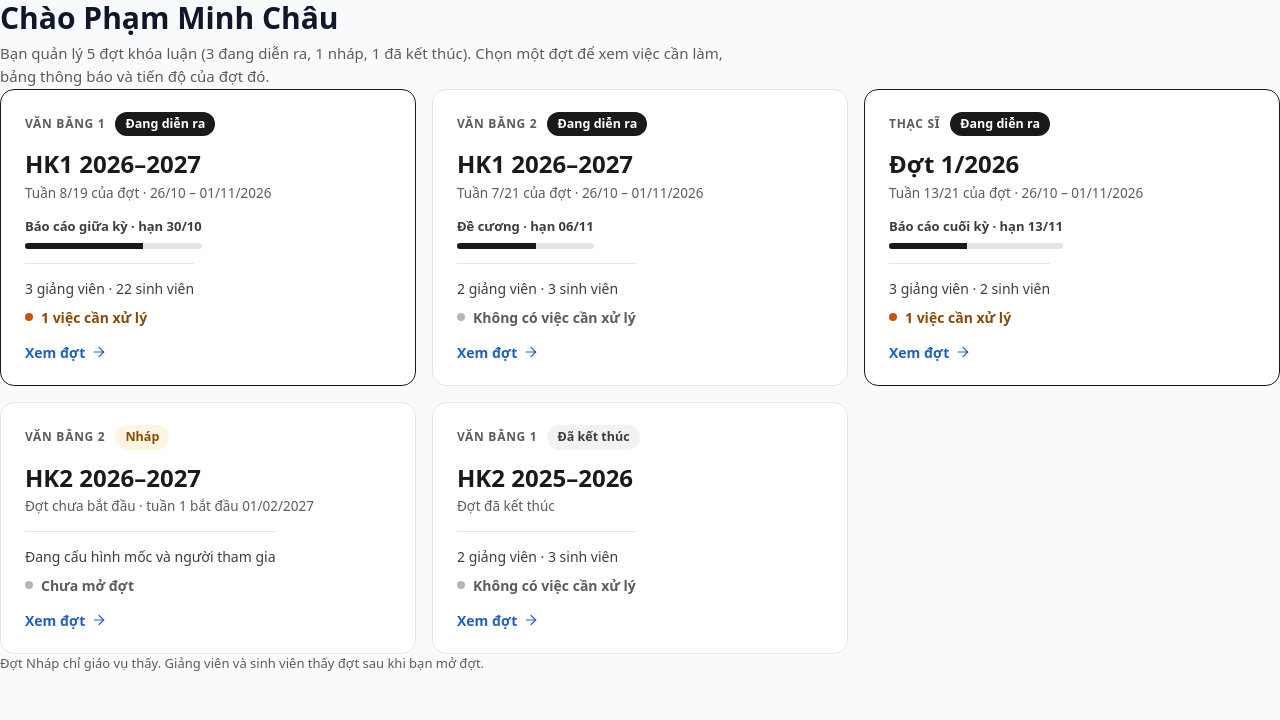
draws the Gantt with a text list per milestone and links to the config tab
The width and height of the screenshot is (1280, 720).
Click the button with aria-label "Mở đợt Văn bằng 1 HK1 2026–2027". click: (65,123)
box: [0, 88, 416, 386]
(page scrolled)
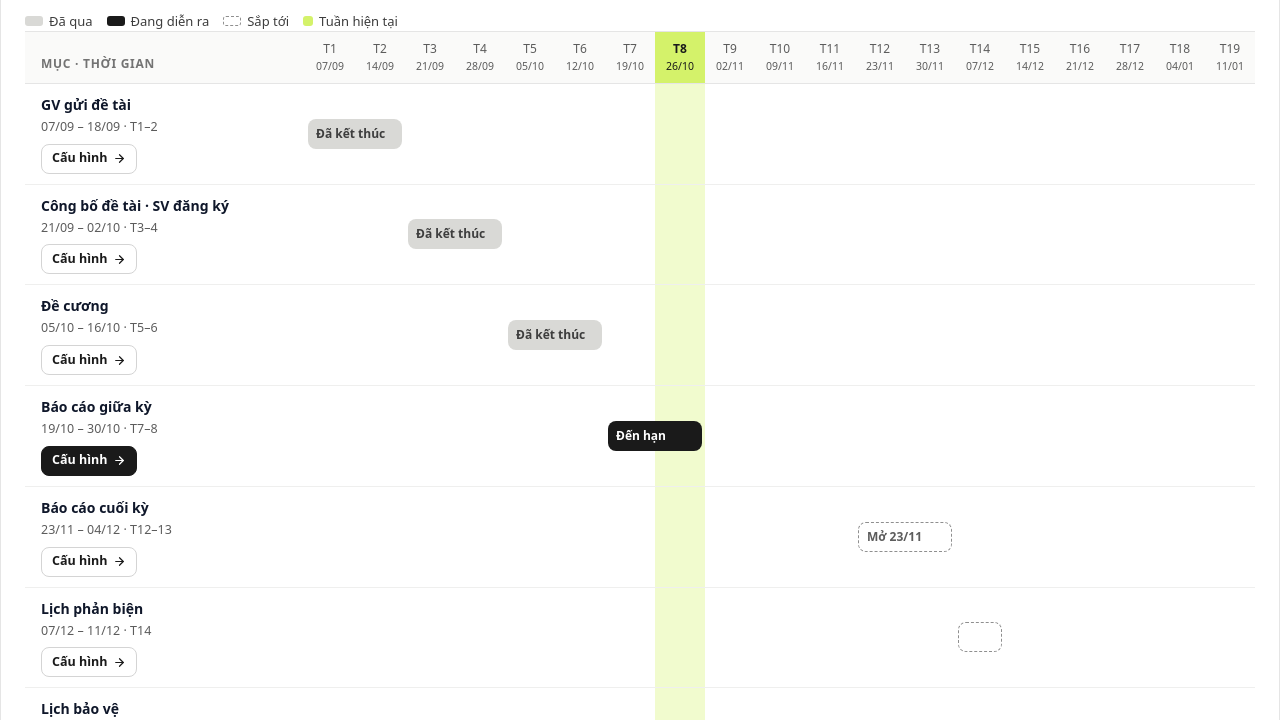
expect the text "T8" is shown: met, box [655, 32, 705, 83]
